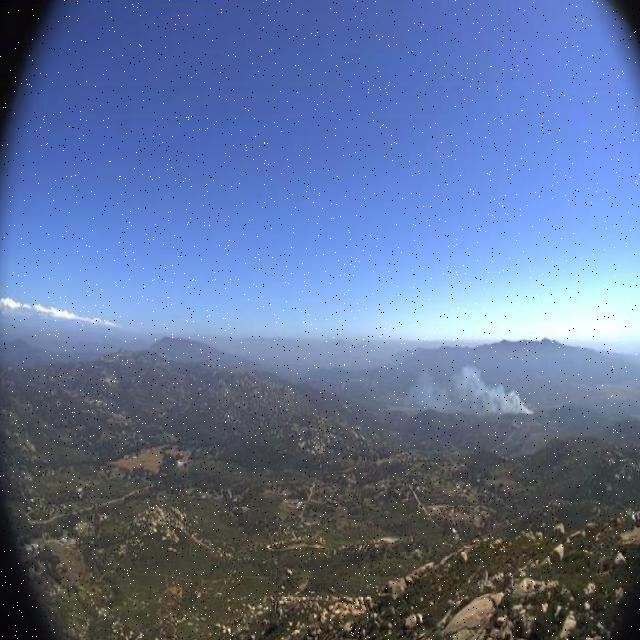smoke: (394, 357, 532, 425)
